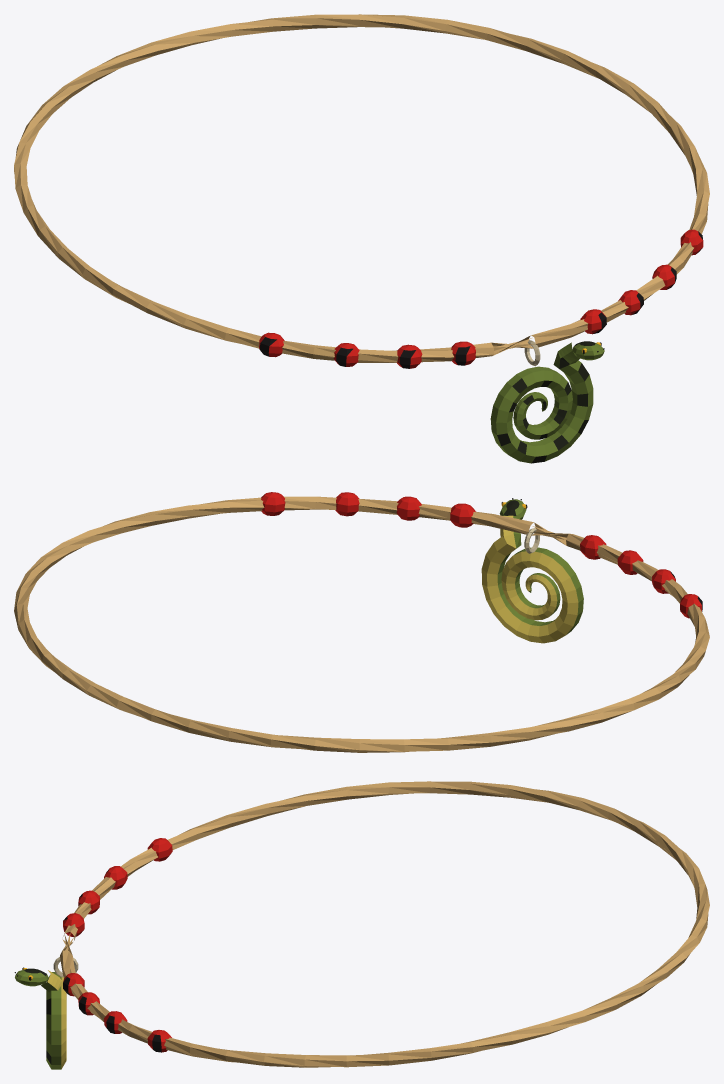
File: collar-anaconda.glb
3 views of the same model, one above another, from view 1: azimuth 30°, elevation 25°; view 2: azimuth 150°, elevation 25°; view 3: azimuth 270°, elevation 25° (orthographic). The views are drawn at different scales.
Visible parts, largest first — view 1: collar-anaconda, dije-anaconda; view 2: collar-anaconda, dije-anaconda; view 3: collar-anaconda, dije-anaconda.
Part boxes in pixels (bbox=[...]): collar-anaconda: bbox=[14, 14, 709, 368]; dije-anaconda: bbox=[490, 340, 604, 463]; collar-anaconda: bbox=[14, 492, 709, 752]; dije-anaconda: bbox=[481, 498, 583, 643]; collar-anaconda: bbox=[60, 781, 709, 1067]; dije-anaconda: bbox=[14, 957, 78, 1069].
Size of the model in its own units: 0.4788 by 0.1327 by 0.5127.
